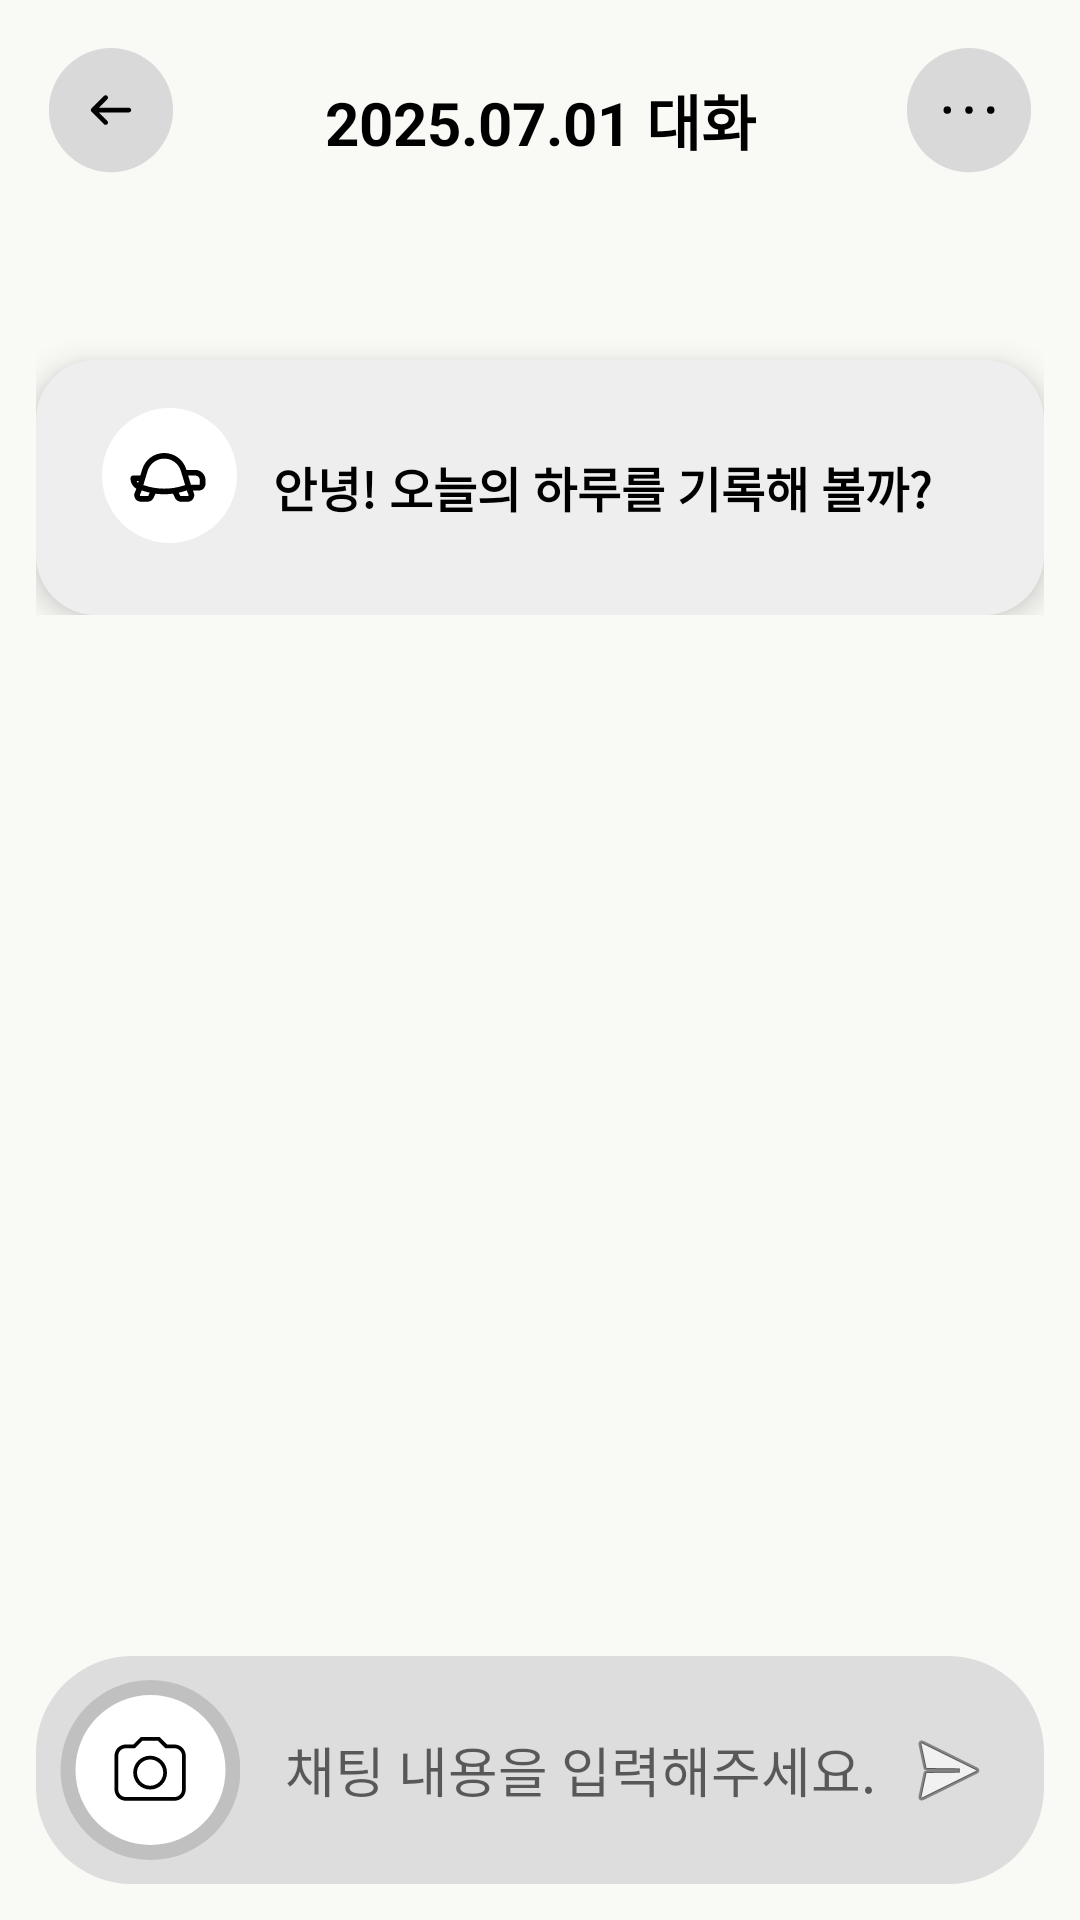

Named icons in this screenshot (1080 × 1920) and their centers, [x,y]:
뒤로 가기: [111,110]
메뉴 더보기: [969,110]
메시지 전송 버튼: [949,1770]
카메라 열기: [150,1770]
